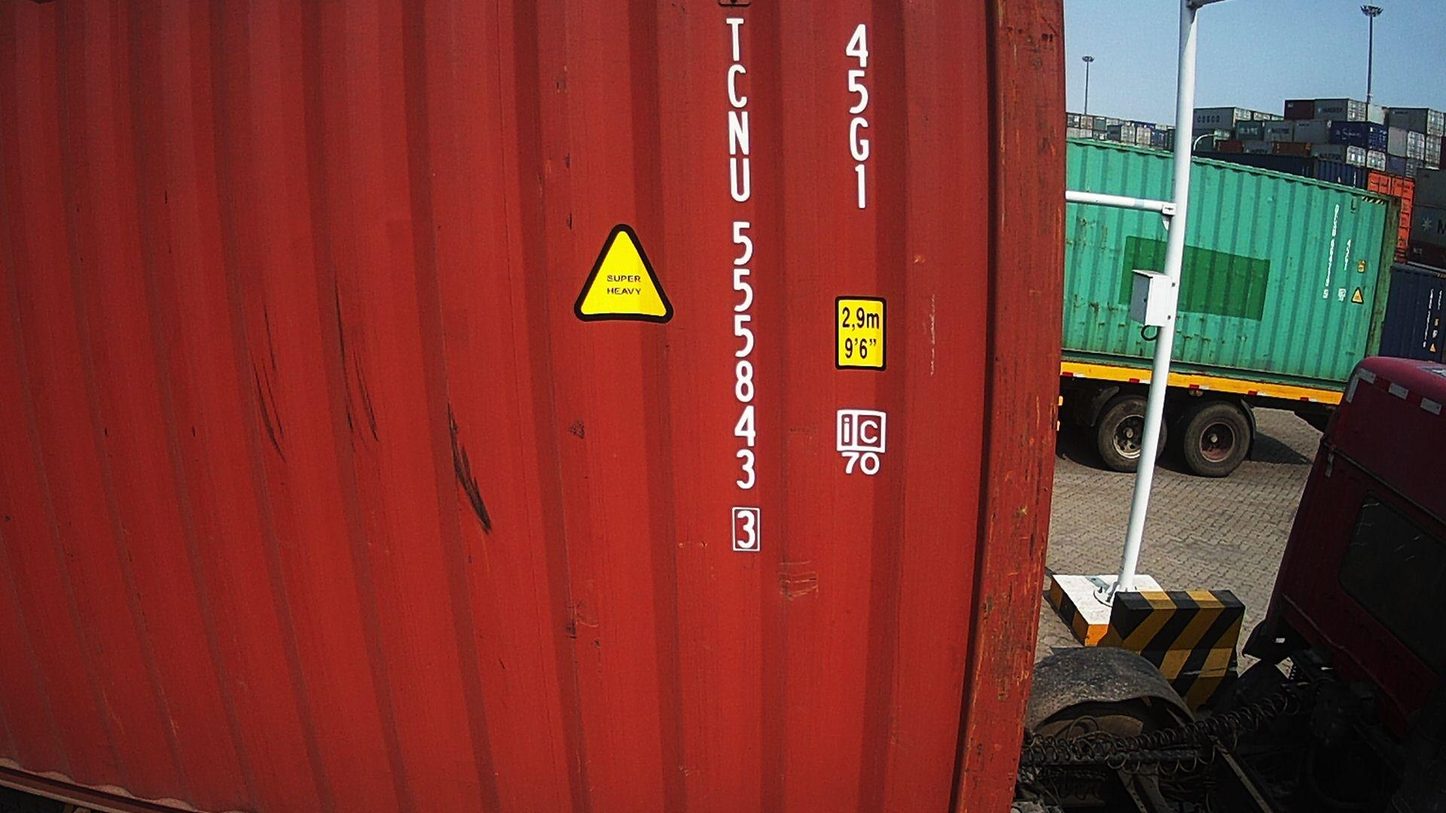container-numbers: (722, 11, 766, 565), (840, 19, 879, 215)
